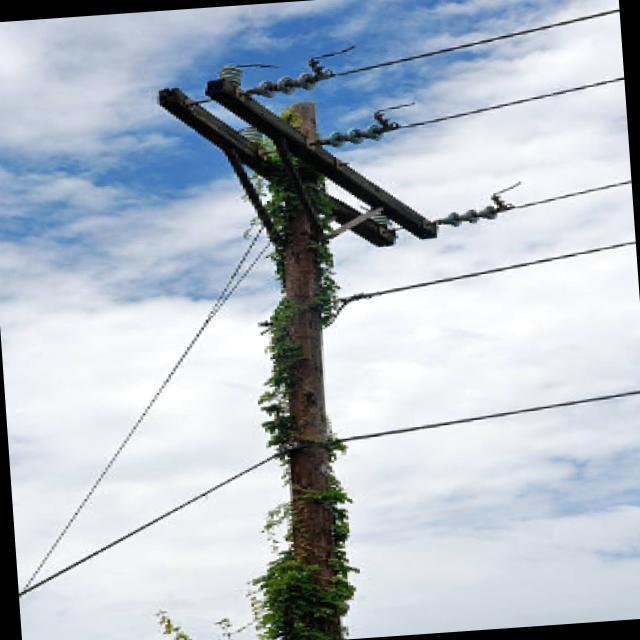critical vegetation: (139, 23, 578, 636), (208, 390, 409, 628)
